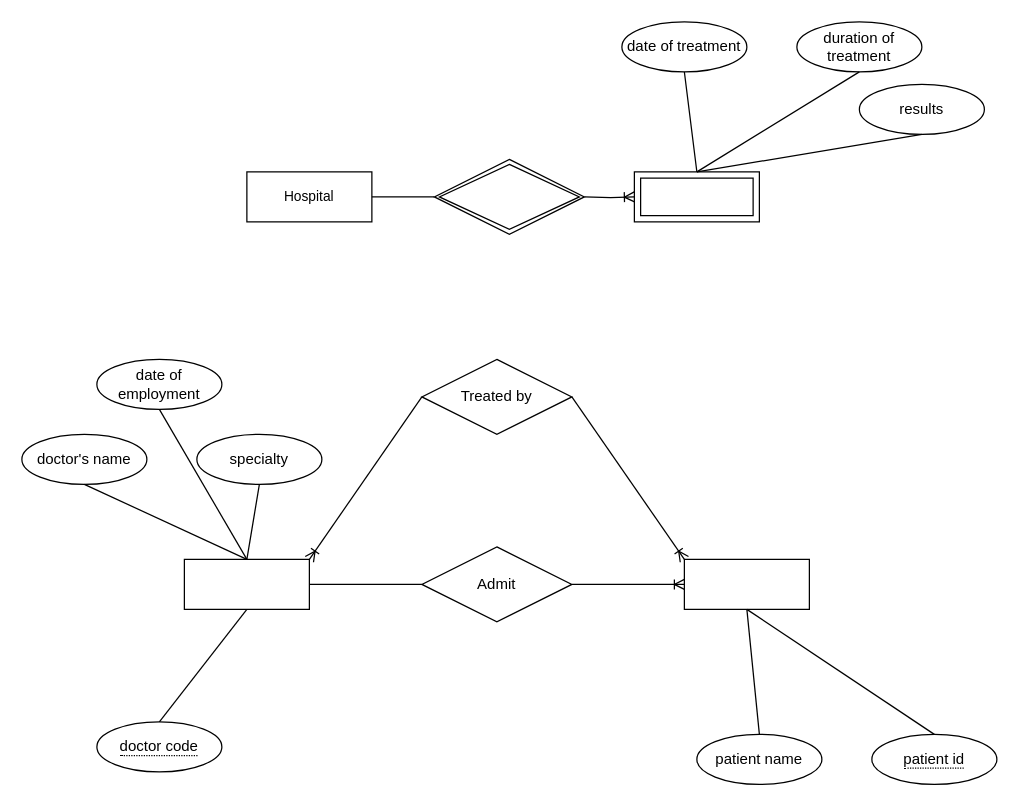
This 1019x806 diagram has some shape labels left out. Each missing label, with the centre of its shape:
Doctor: (246,583)
Patient: (746,583)
Save: (508,196)
Treatment: (696,196)
